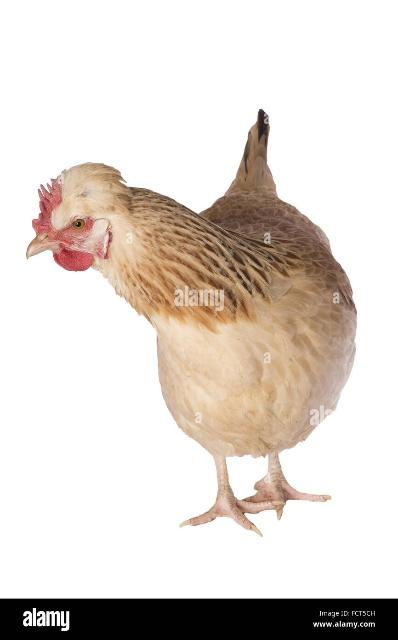Chicken: (21, 111, 359, 538)
